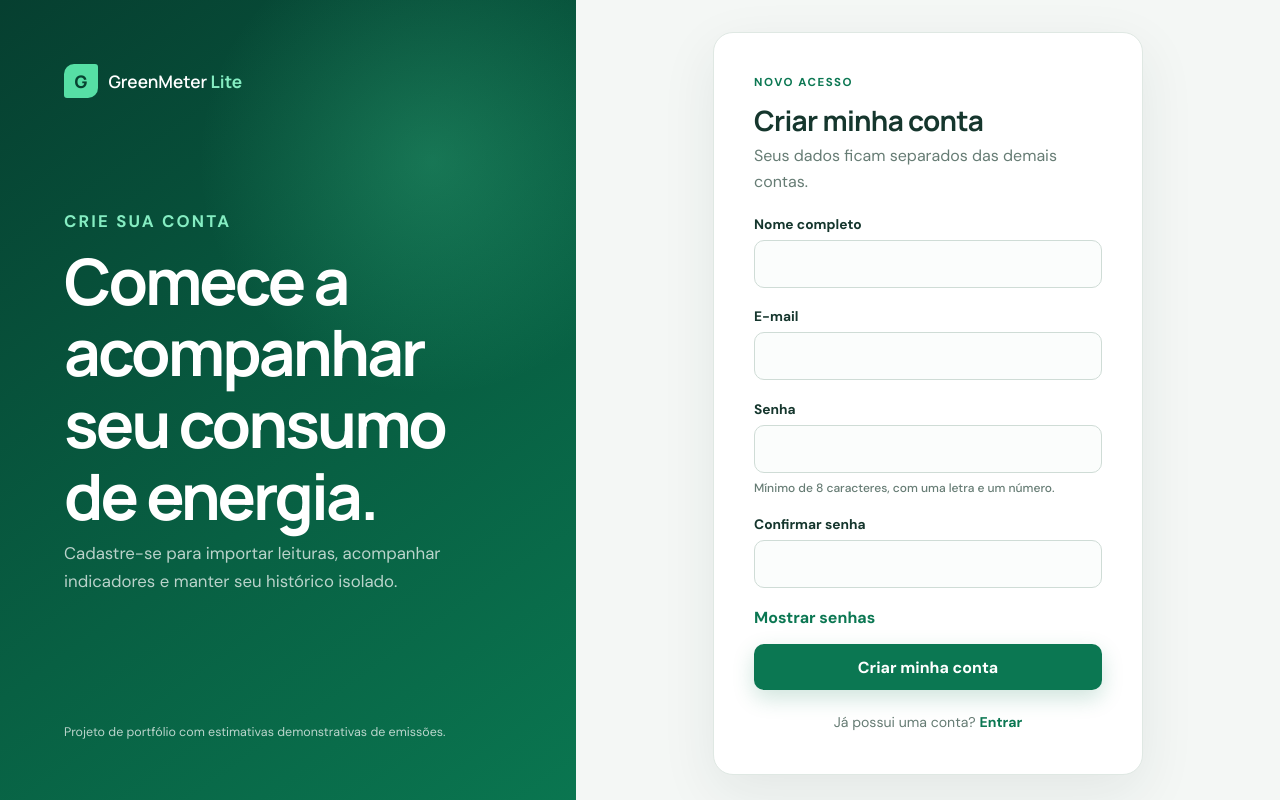
RegisterPage › rejects mismatched passwords before sending the request
Type "Maria Silva" into the field labelled "Nome completo" at x=928, y=264, box [754, 240, 1102, 288]
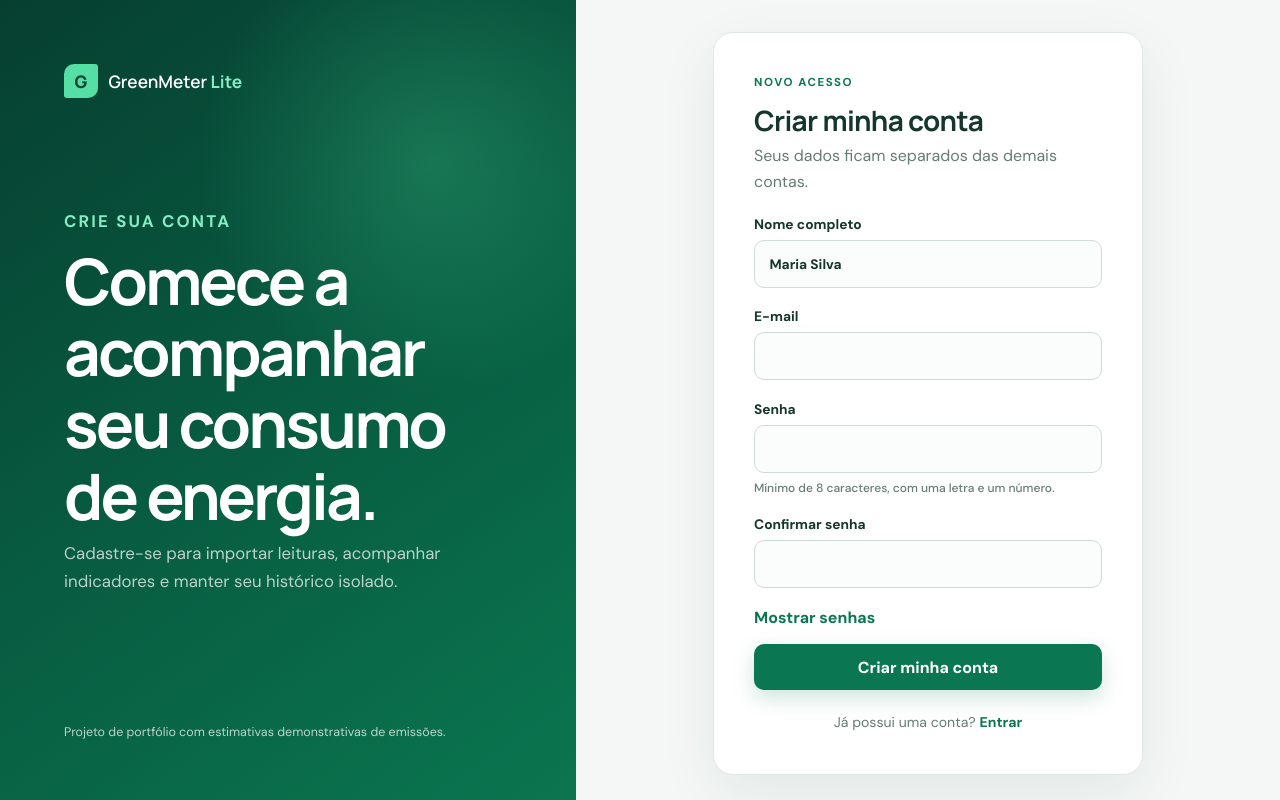
Type "maria@example.com" into the field labelled "E-mail" at x=928, y=356, box [754, 332, 1102, 380]
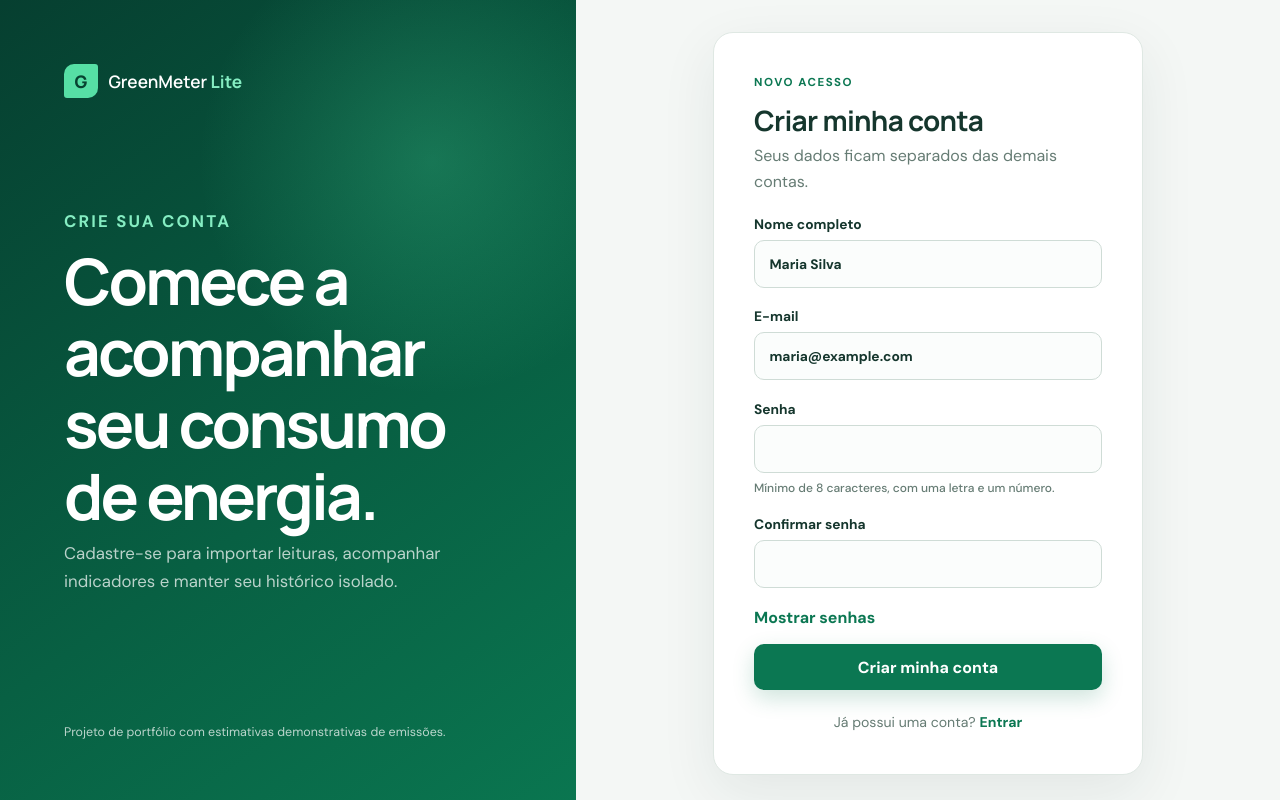
Type "Senha123" into the password field labelled "Senha" at x=928, y=449, box [754, 425, 1102, 473]
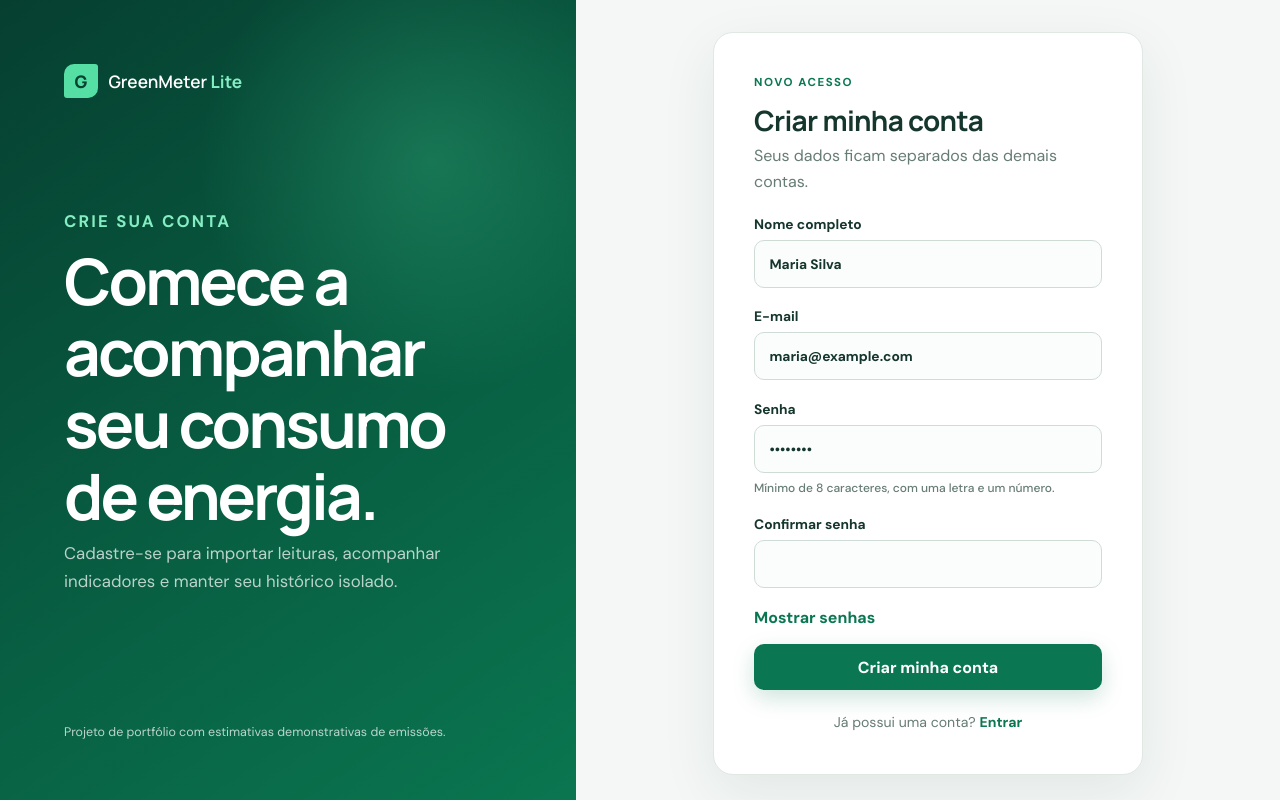
Type "Outra123" into the password field labelled "Confirmar senha" at x=928, y=564, box [754, 540, 1102, 588]
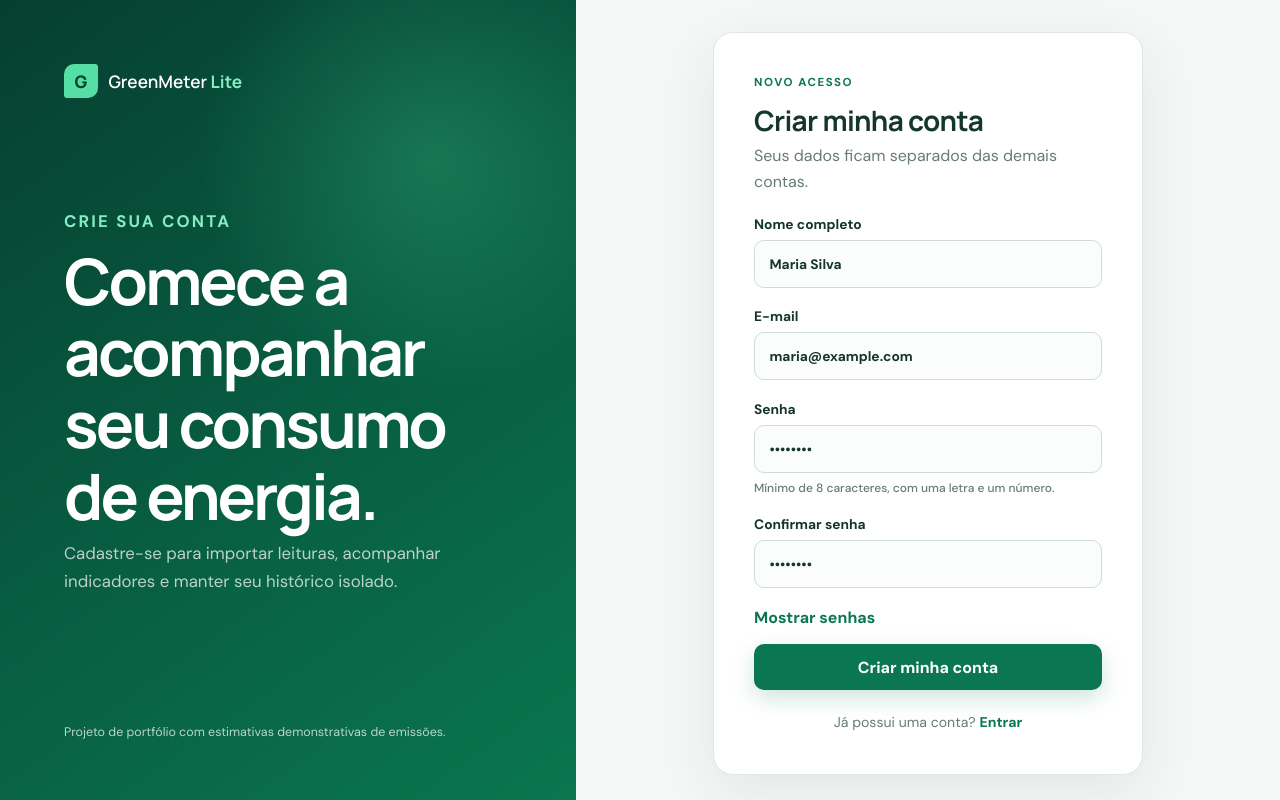
Click the button "Criar minha conta" at x=928, y=667, box [754, 644, 1102, 690]
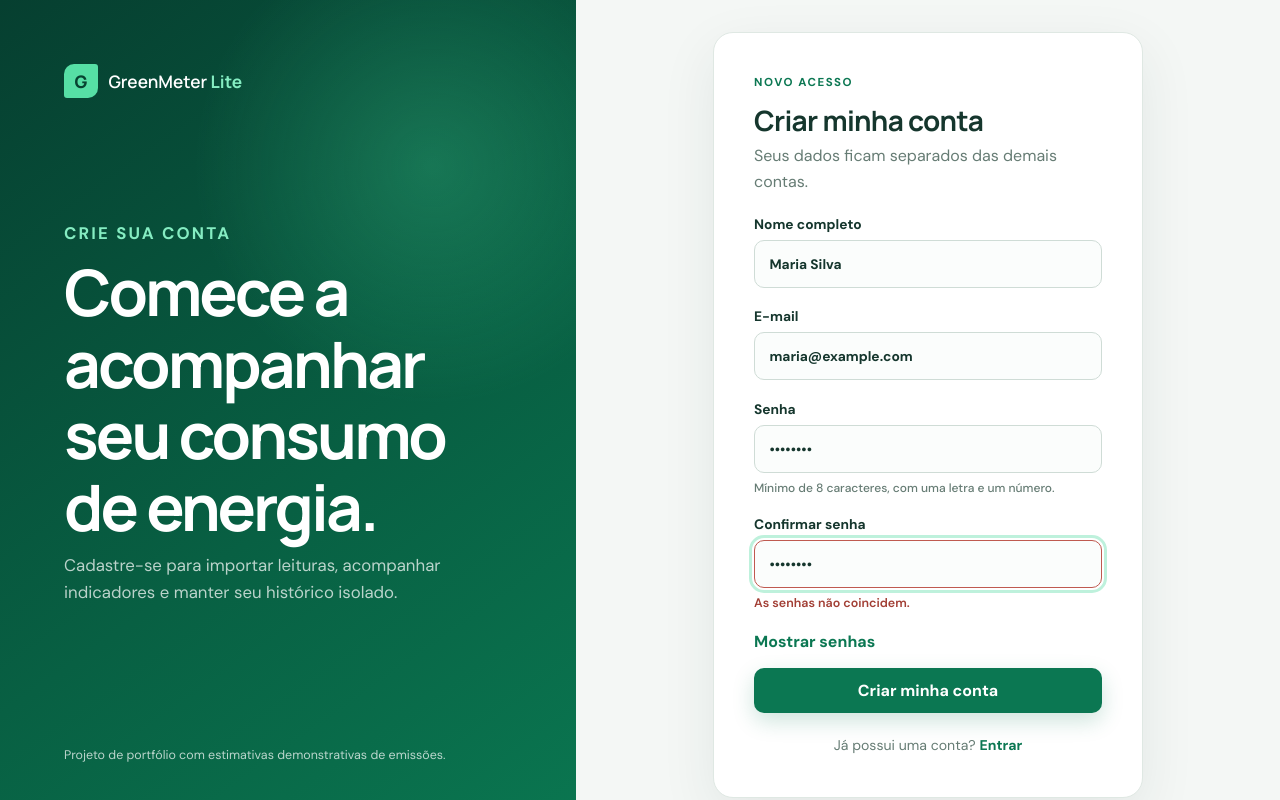
Now the text "As senhas não coincidem." is shown, box [754, 596, 910, 612]
